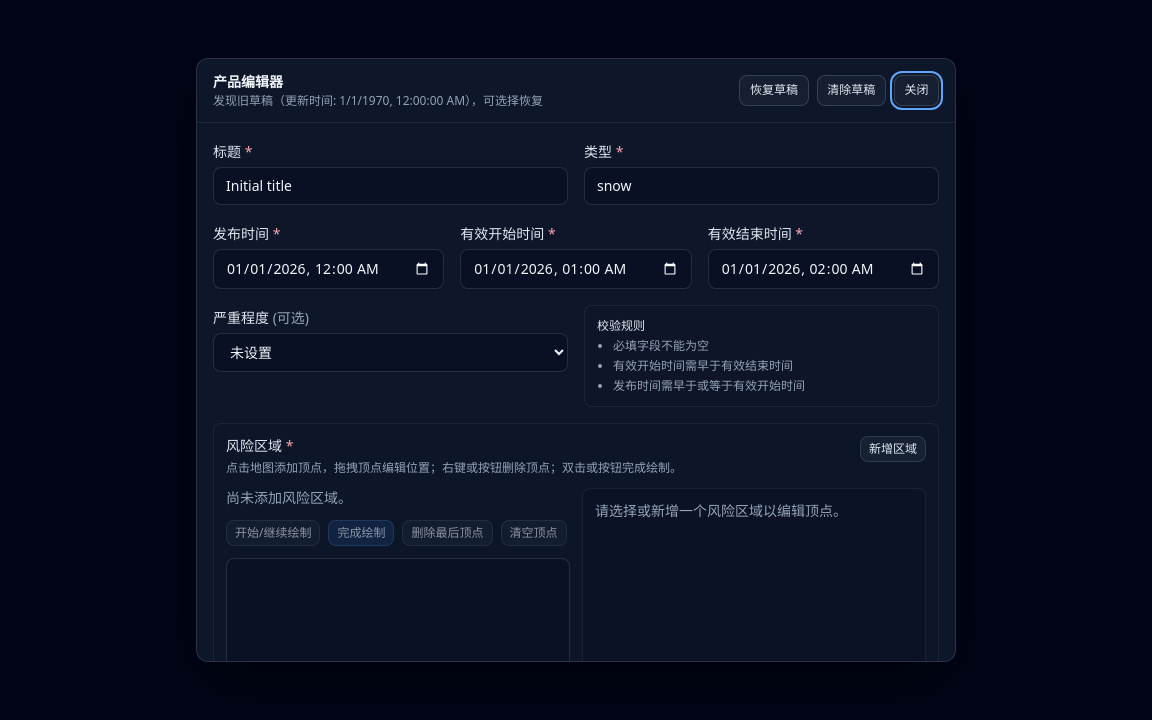
Test: ProductEditor › prefers initialValues when editing and allows restoring draft
expect the field labelled "标题 *" holds "Initial title": met, box [213,167,568,205]
expect the field labelled "类型 *" holds "snow": met, box [584,167,939,205]
Click the button "恢复草稿": x=774, y=90 [739,74,809,106]
(page scrolled)
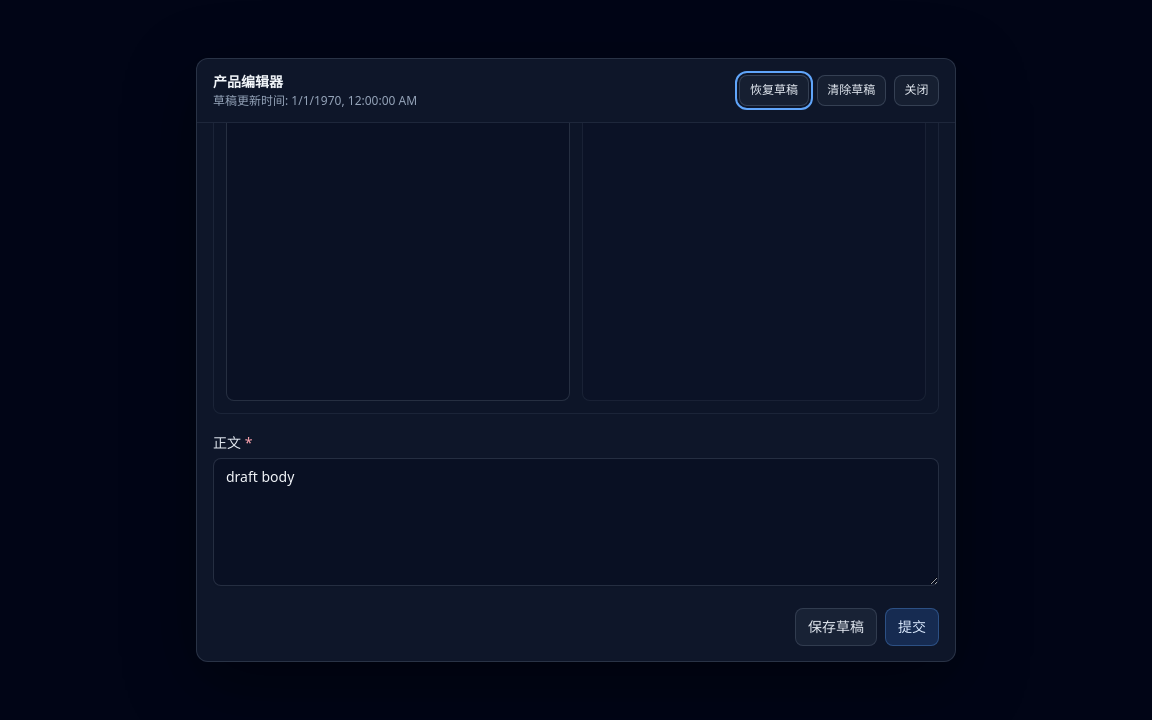
expect the text box labelled "正文 *" holds "draft body": met, box [213,458,939,586]
